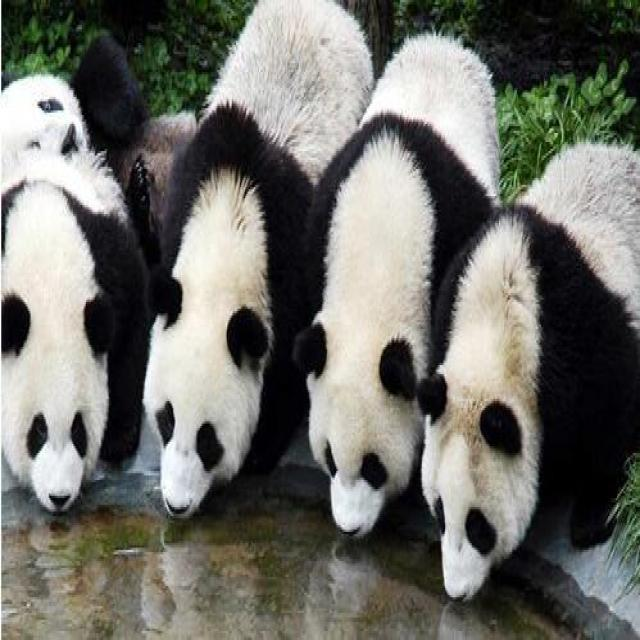panda: (154, 9, 640, 622), (0, 15, 147, 522)
